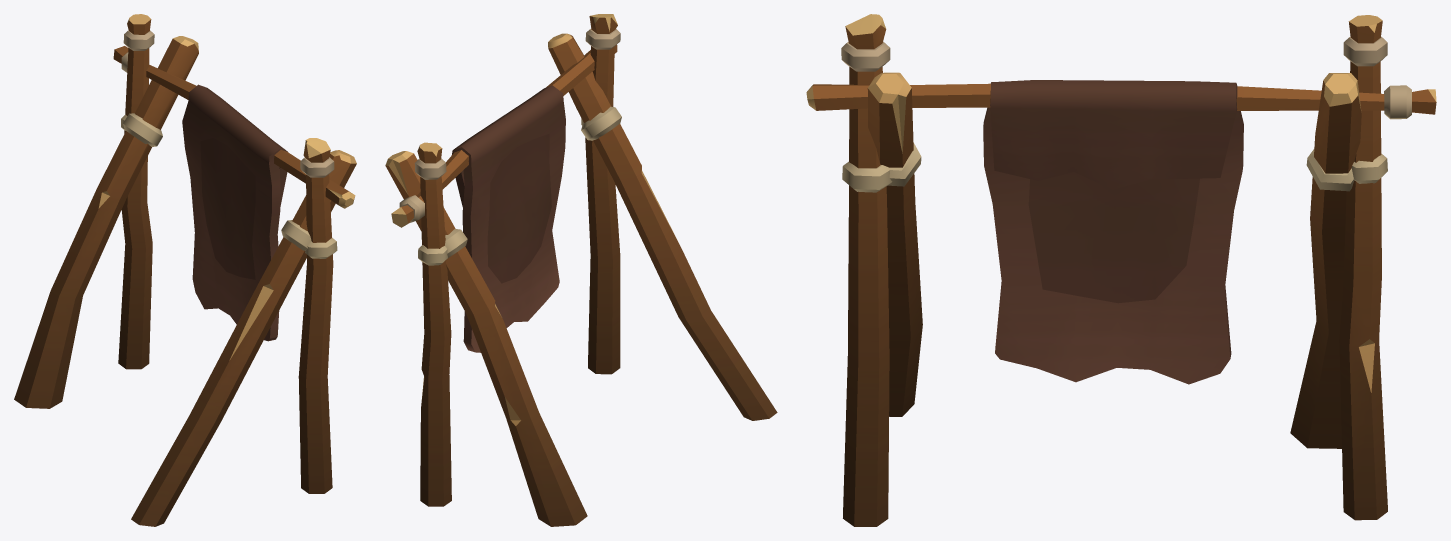
File: SkinHang_A.glb
The picture shows the model from 3 angles, left to right: view 1: azimuth 30°, elevation 25°; view 2: azimuth 150°, elevation 25°; view 3: azimuth 270°, elevation 25°; orthographic projection. The views are drawn at different scales.
Visible parts, largest first — view 1: SkinHang_A; view 2: SkinHang_A; view 3: SkinHang_A.
Part boxes in pixels (x1,y1,x2,y2): SkinHang_A: (14,14,356,526); SkinHang_A: (385,14,777,526); SkinHang_A: (806,14,1436,526).
Bounding box in the file's own units: 1.24 × 1.89 × 2.15.
1 material, 1 textured.
